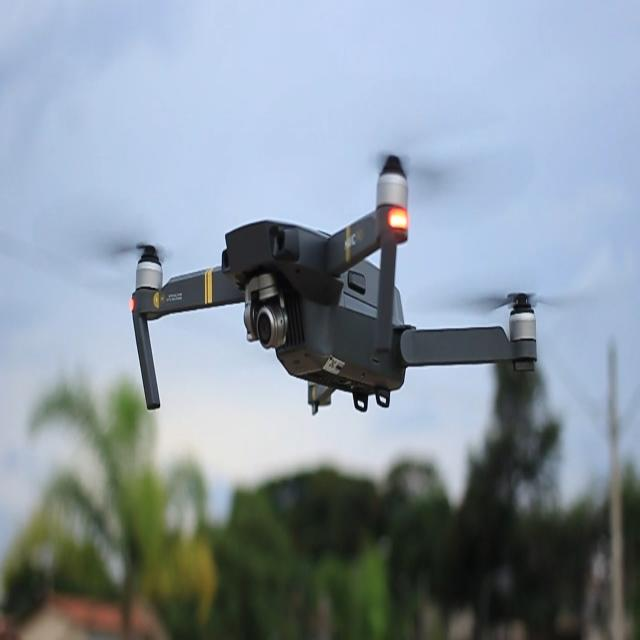Drone: (130, 156, 536, 414)
